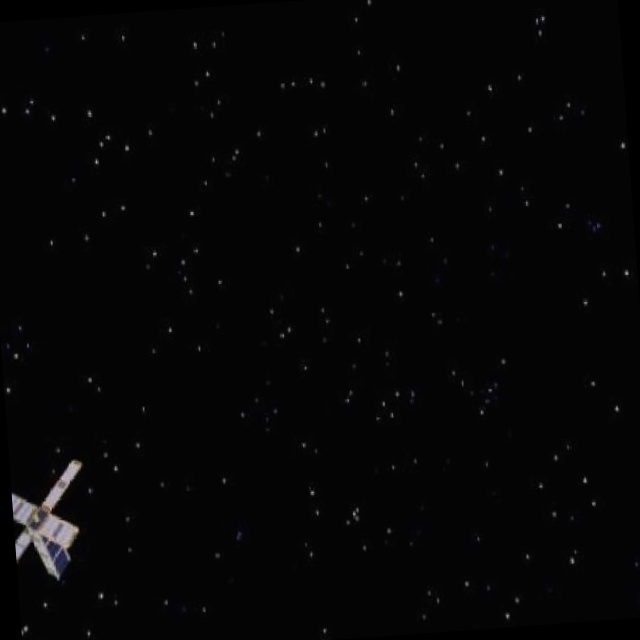satellite: (9, 450, 92, 587)
